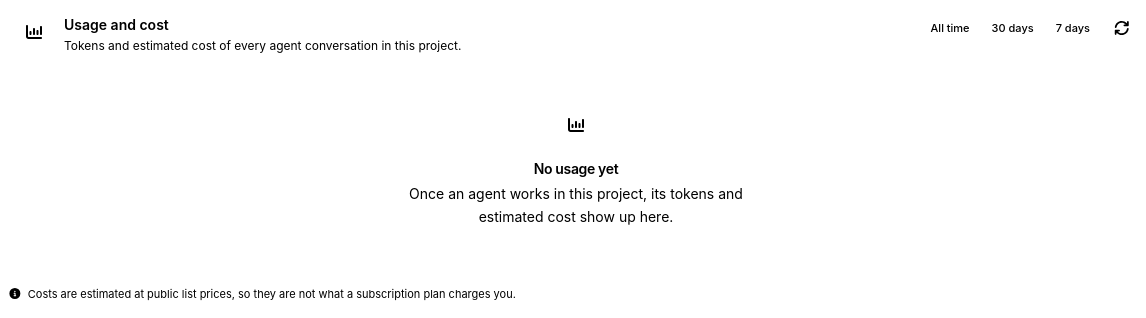
Test: ProjectUsageTab headline › suggests a longer period when a short one is empty
Expected: the text "No usage yet" is shown, [534,160,618,177]
Step 1. Click the button "7 days" → (1073, 28), box [1046,16,1100,40]
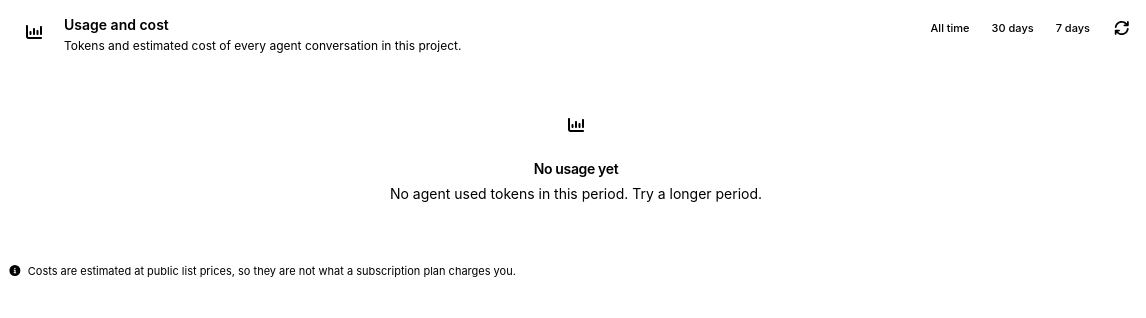
Expected: the text "No agent used tokens in this period. Try a longer period." is shown, [390,183,762,206]
